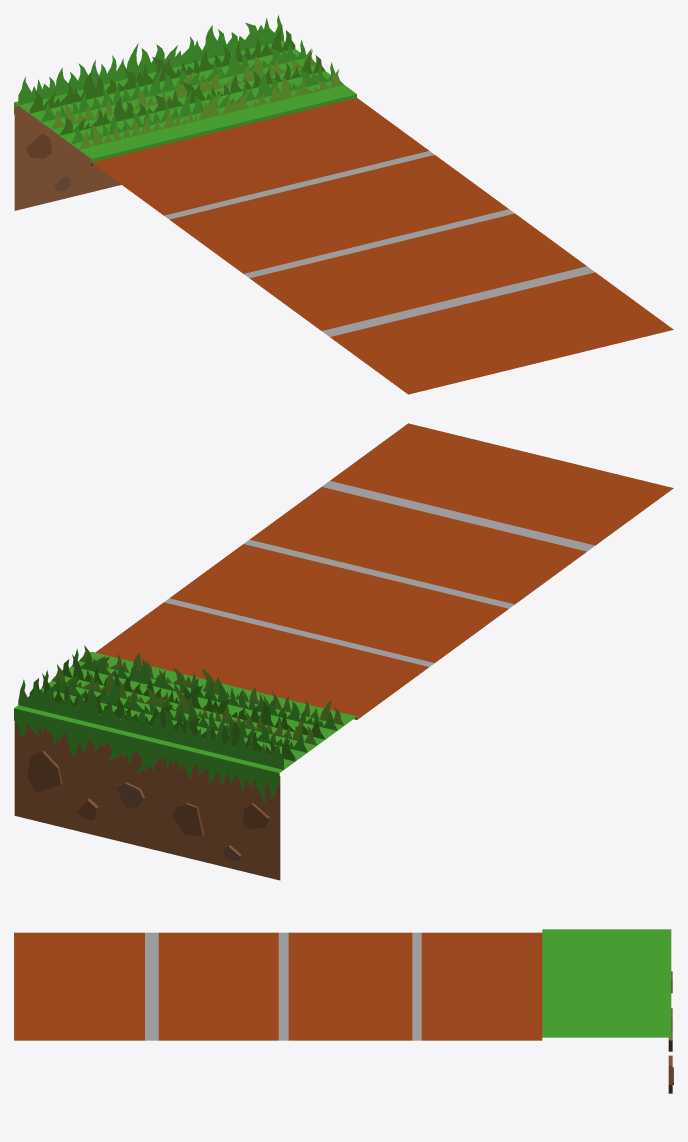
File: ground_mid_01.fbx
3 renders of one model, top to bottom at view 1: azimuth 30°, elevation 25°; view 2: azimuth 150°, elevation 25°; view 3: azimuth 270°, elevation 25°, orthographic. The views are drawn at different scales.
Visible parts, largest first — view 1: ground_mid_01, ground_mid_grass_01; view 2: ground_mid_01, ground_mid_grass_01; view 3: ground_mid_01.
Boxes of the visible parts, bbox=[...] form: ground_mid_01: bbox=[14, 40, 673, 394]; ground_mid_grass_01: bbox=[14, 15, 343, 149]; ground_mid_01: bbox=[14, 423, 673, 880]; ground_mid_grass_01: bbox=[14, 645, 344, 804]; ground_mid_01: bbox=[14, 929, 673, 1093].
Size of the model in its own units: 595 by 303 by 1537.
